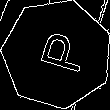P_W: (27, 29, 87, 79)
